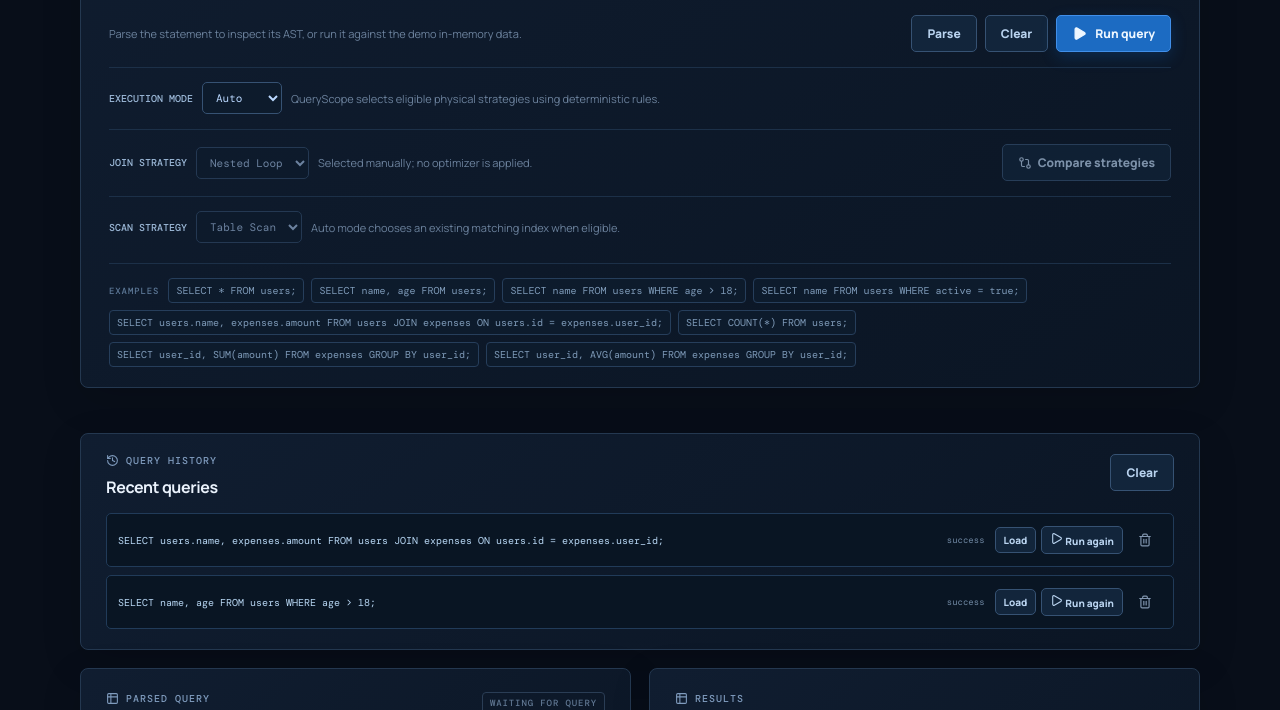
Test case: App › loads an aggregate example and renders aggregate rows and plan metrics
(page scrolled)
Click the button "SELECT user_id, SUM(amount) FROM expenses GROUP BY user_id;" at (294, 355), box [109,342,479,367]
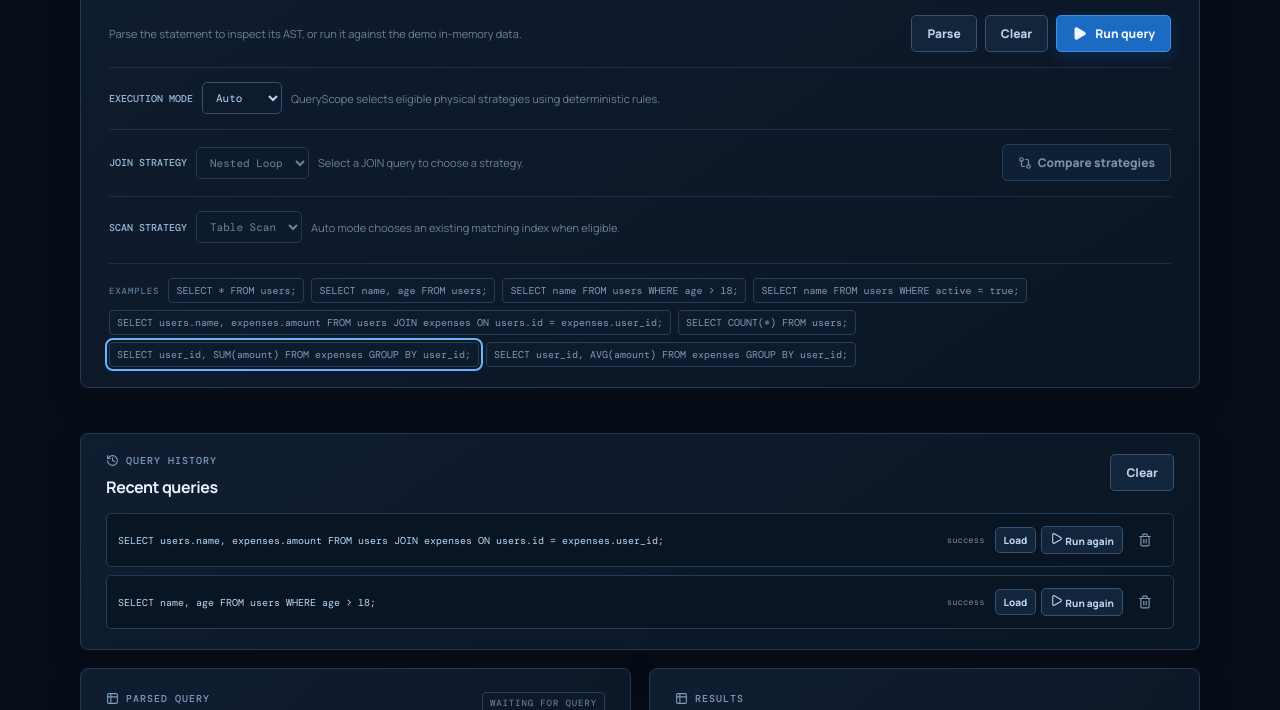
Click the button "Run query" at (1114, 34), box [1056,15,1171,52]
(page scrolled)
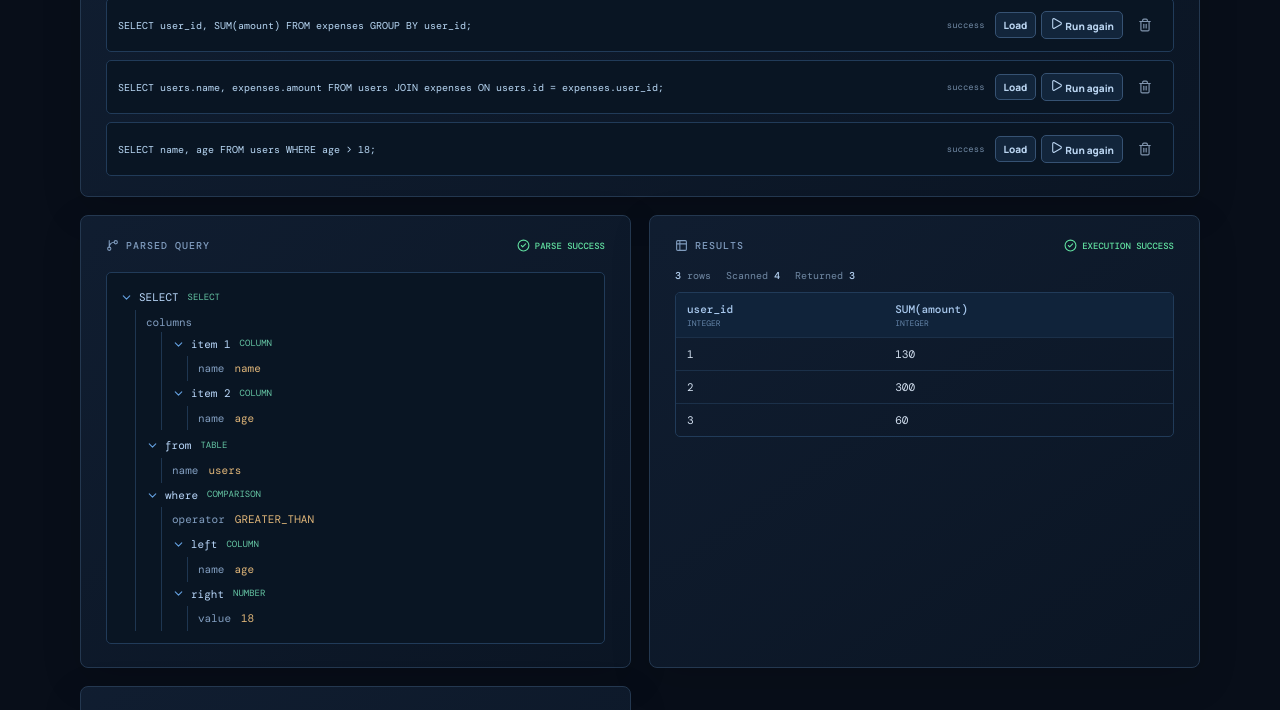
expect the text "SUM(amount)" is shown: met, box [895,302,968,316]
expect the text "130" is shown: met, box [884,338,1173,371]
